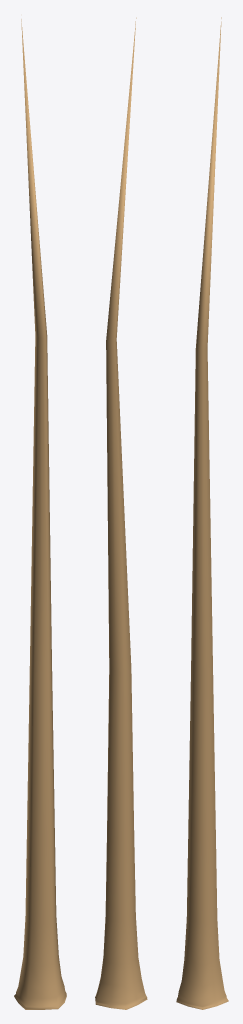
The model's file is real-tree3-trunk.glb.
3 views of the same model, side by side, from view 1: azimuth 90°, elevation 25°; view 2: azimuth 210°, elevation 25°; view 3: azimuth 270°, elevation 25° (orthographic).
Visible parts, largest first — view 1: trunk; view 2: trunk; view 3: trunk.
Boxes of the visible parts, <box> form: trunk: <box>14,19,66,1009</box>; trunk: <box>95,17,147,1009</box>; trunk: <box>176,17,228,1009</box>.
Bounding box in the file's own units: 0.6061 × 12.66 × 0.6133.
